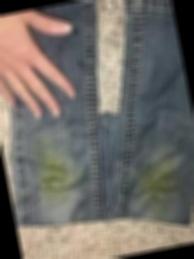earth: (32, 136, 74, 203), (135, 163, 179, 211)
